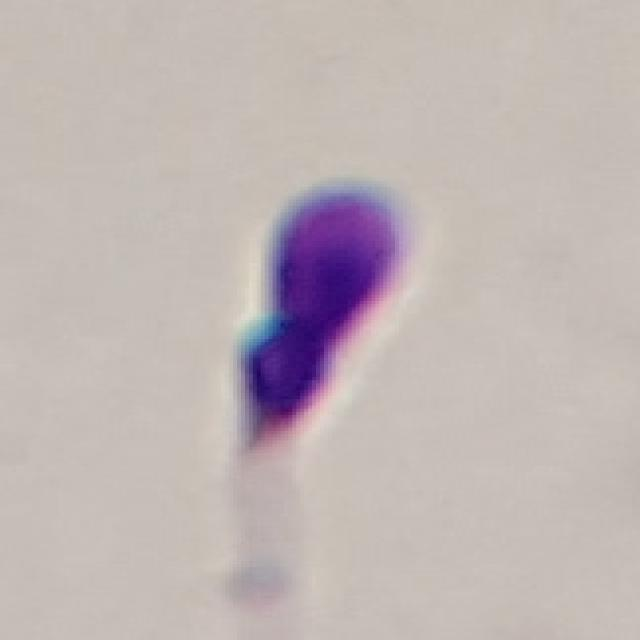abnormal sperm: (224, 154, 423, 547)
